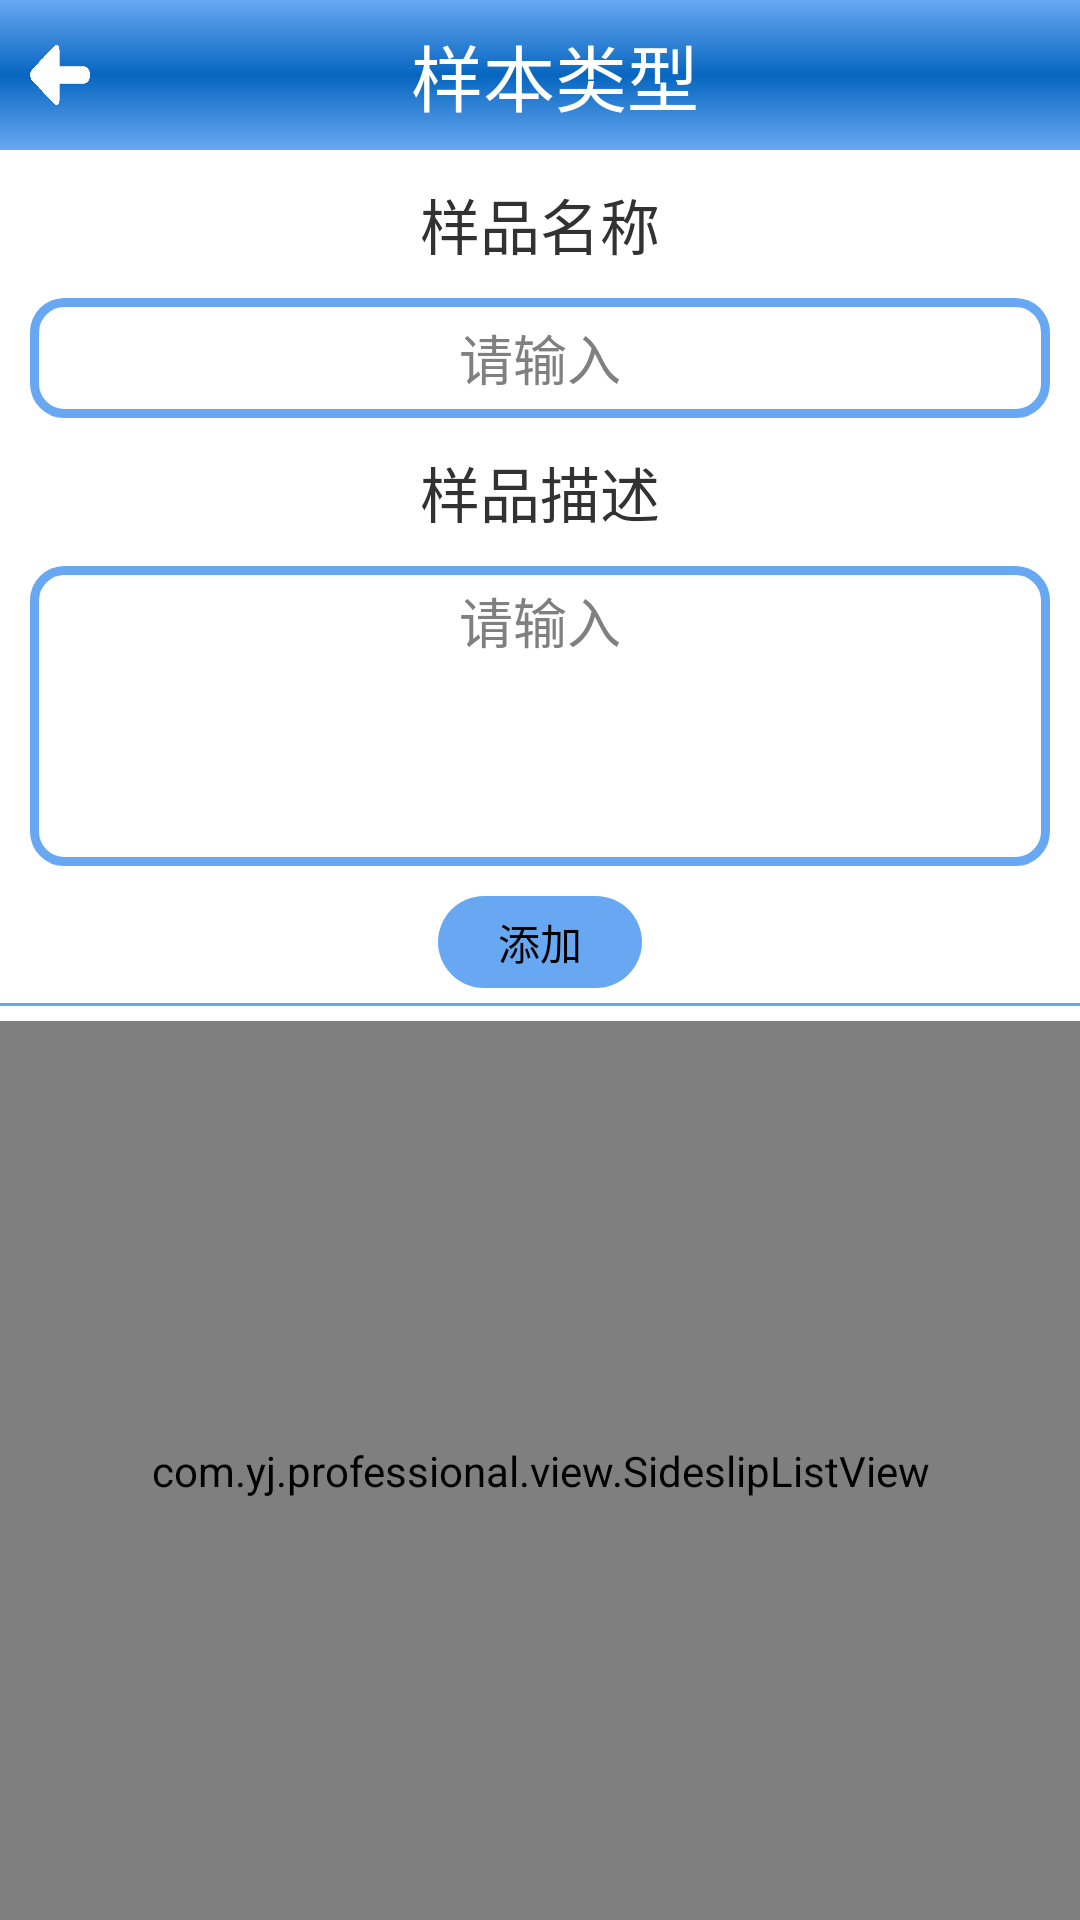

Point at icon controls on the screen. Image size 1080px x 1920px, points as point (x, y).
left arrow: point (60, 75)
